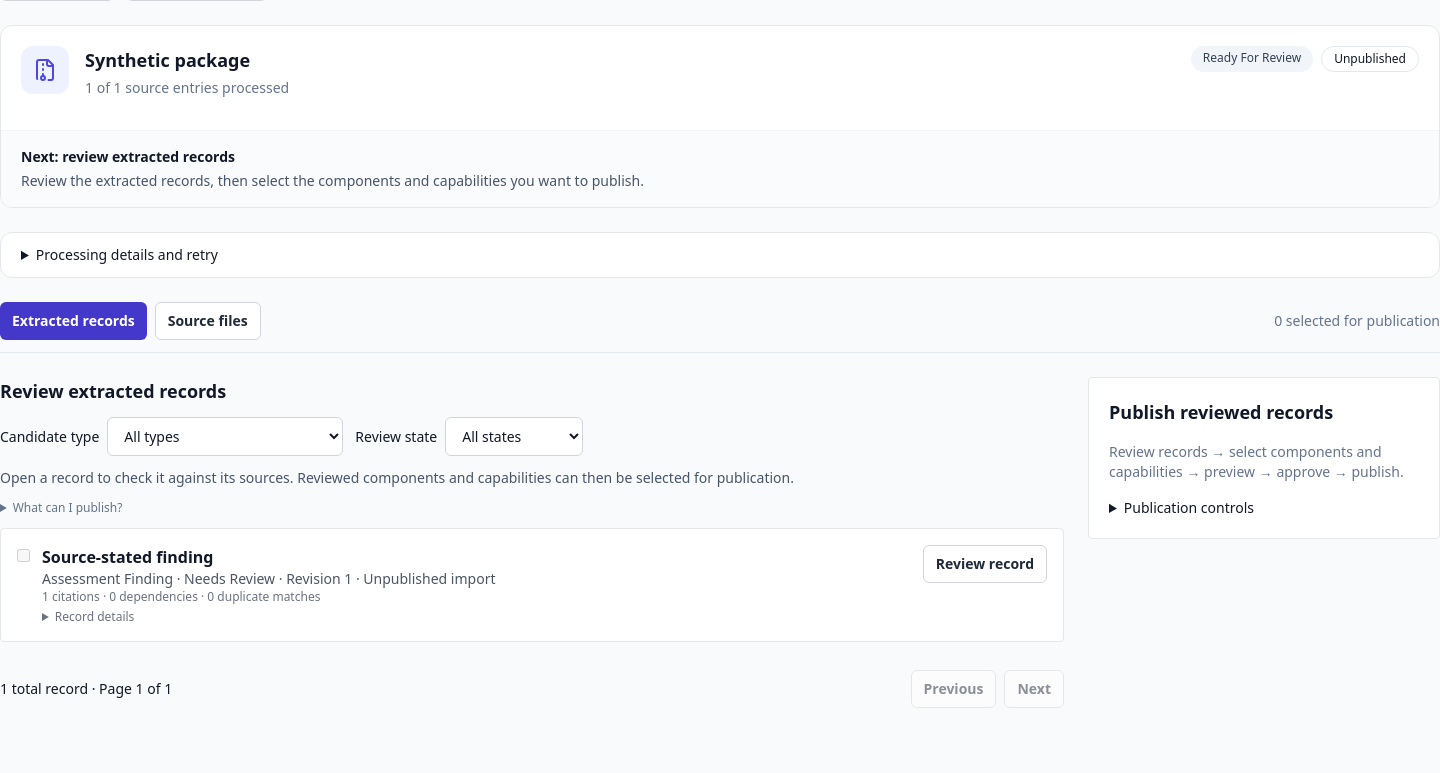
Test: profile-2 source claims remain distinct from published inventory › retains review rationale and exact candidate revision after a stale conflict
Click the button with aria-label "Review Source-stated finding" at (985, 564), box top-left (923, 545), bottom-right (1047, 583)
(page scrolled)
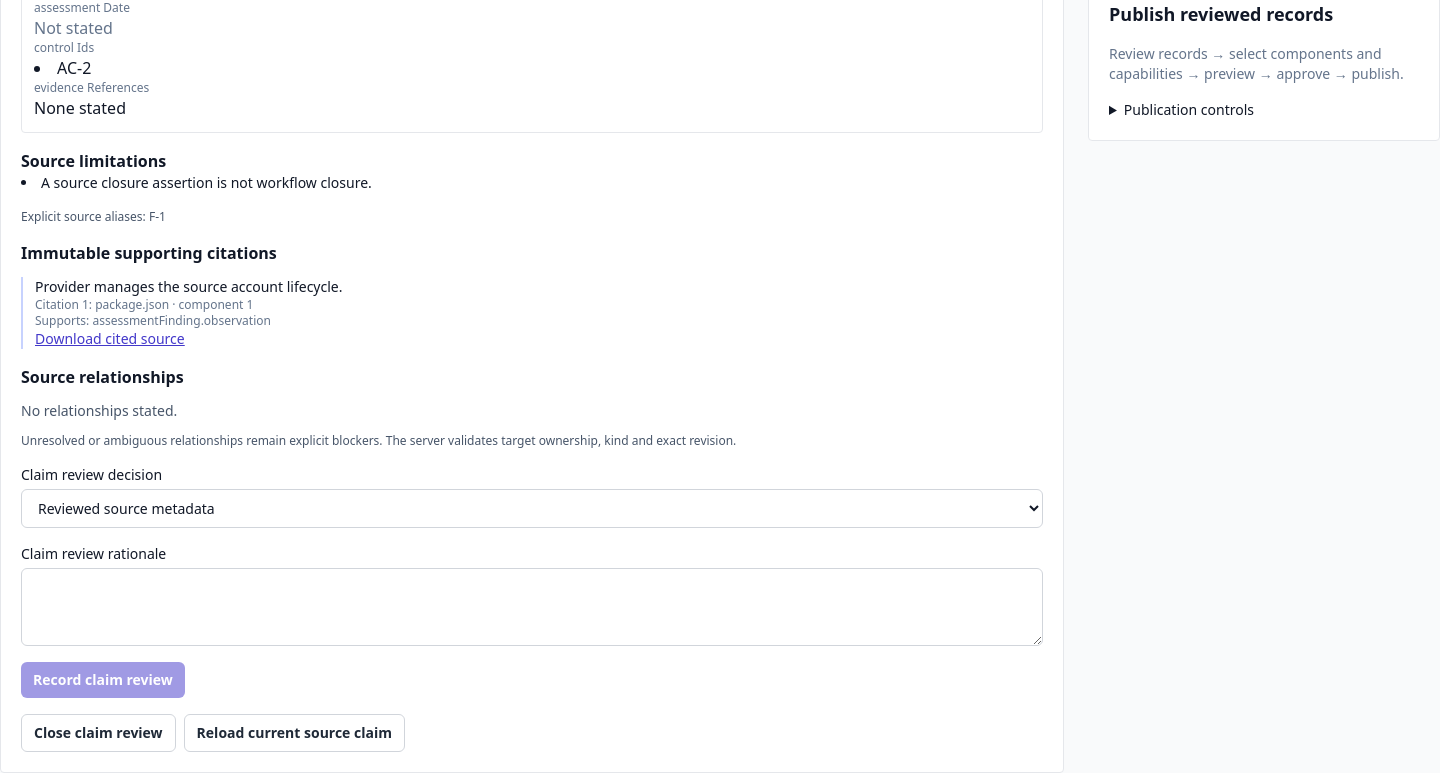
Type "Retain my review." into the text box labelled "Claim review rationale" at (532, 607), box top-left (21, 568), bottom-right (1043, 646)
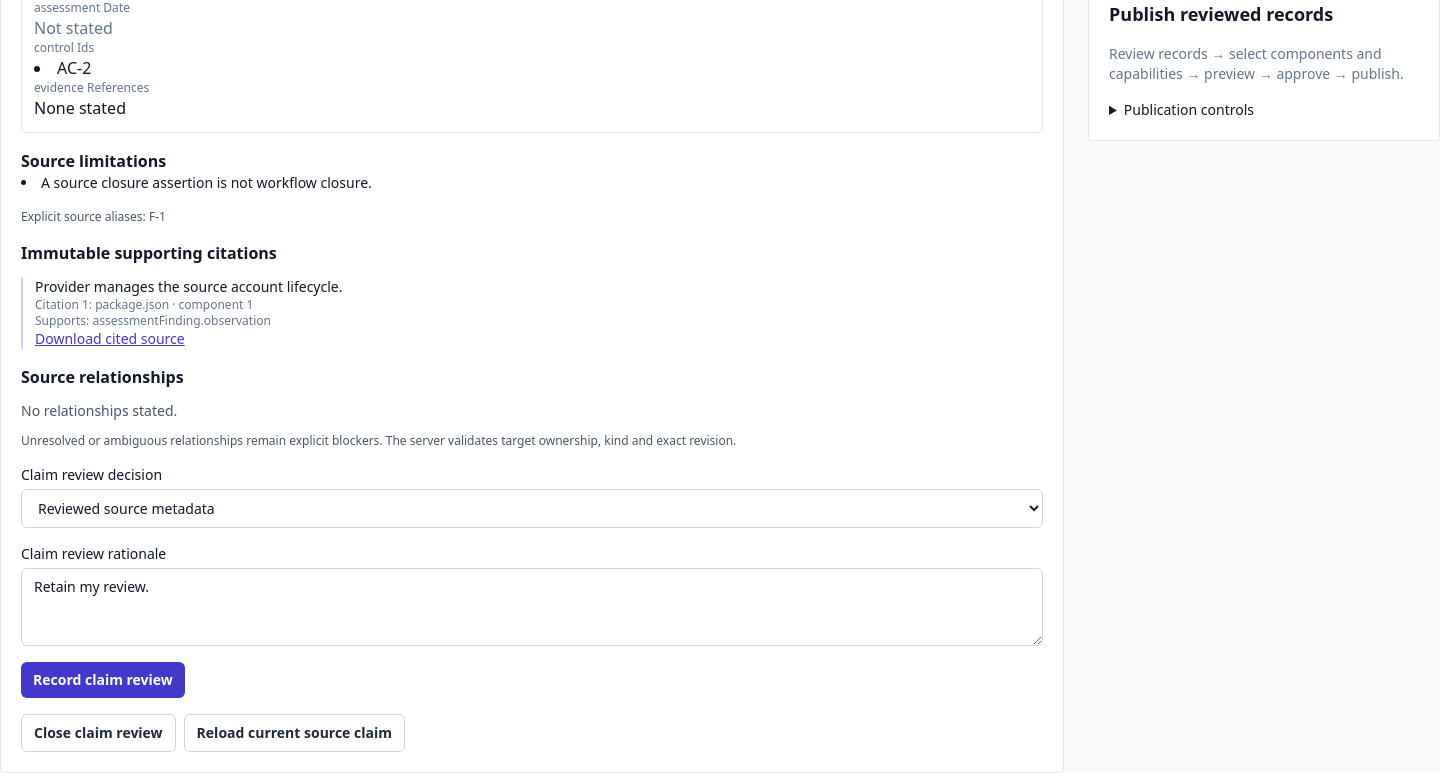
Click the button "Record claim review" at (103, 680), box top-left (21, 662), bottom-right (185, 698)
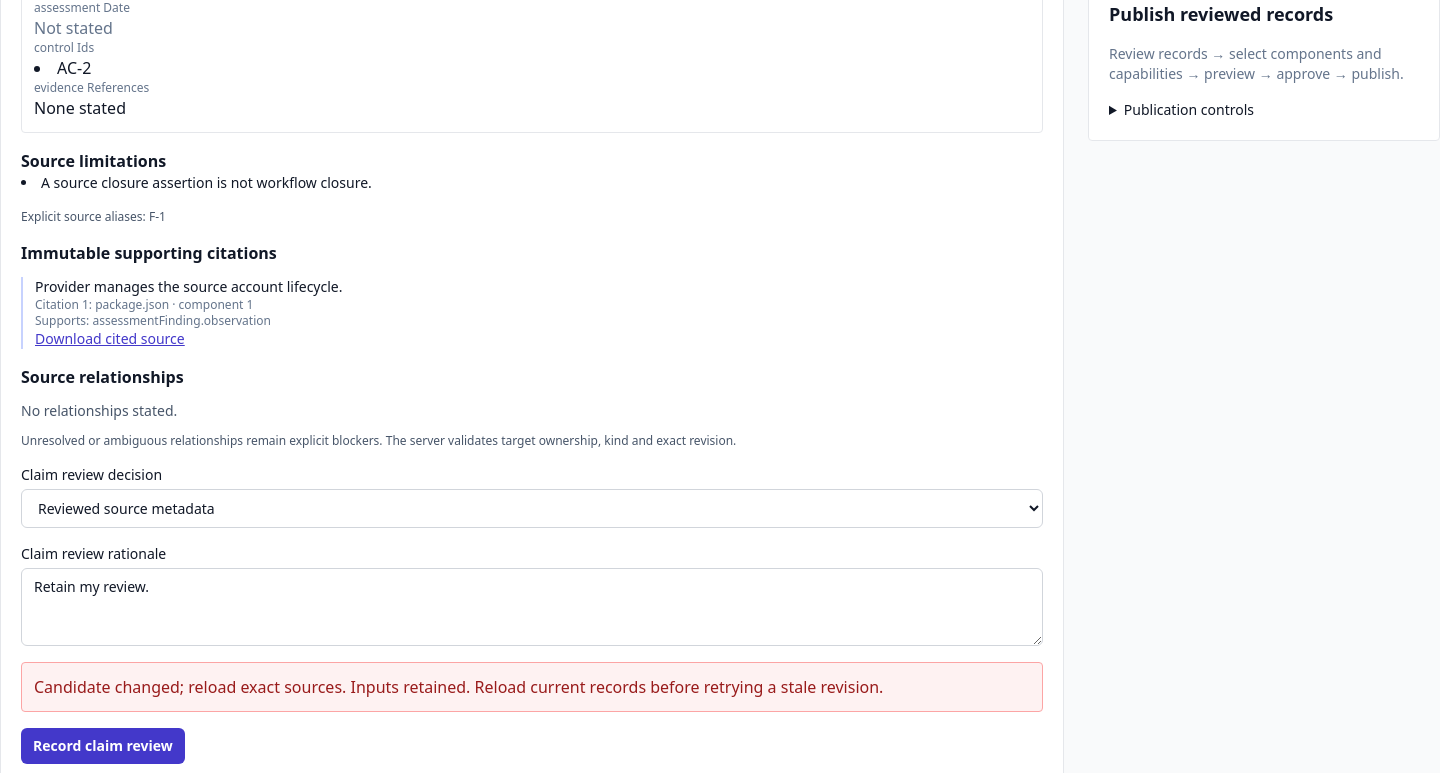
Now the message shows "Candidate changed", box top-left (34, 676), bottom-right (883, 698)
